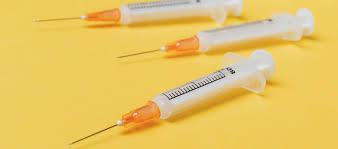Syringe: (69, 50, 274, 144), (118, 8, 314, 57), (36, 0, 242, 24)
